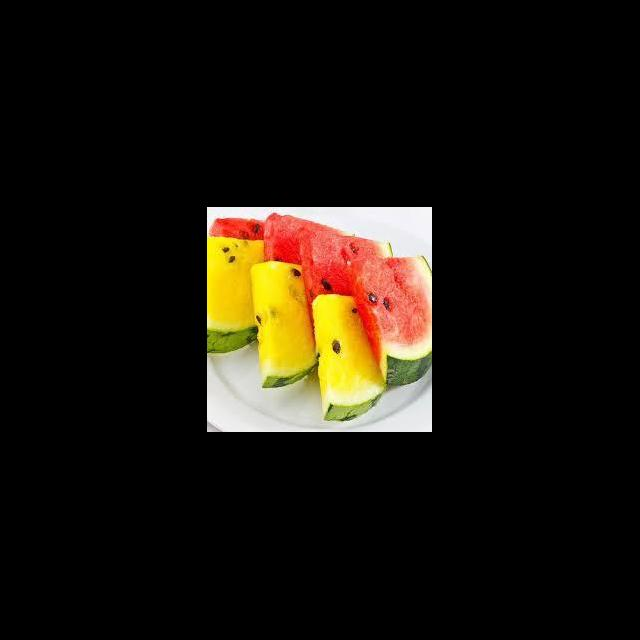watermelon: (350, 256, 432, 386), (311, 294, 388, 422), (250, 262, 320, 389), (208, 236, 266, 354), (300, 230, 394, 300), (263, 212, 356, 268), (209, 217, 265, 240)
